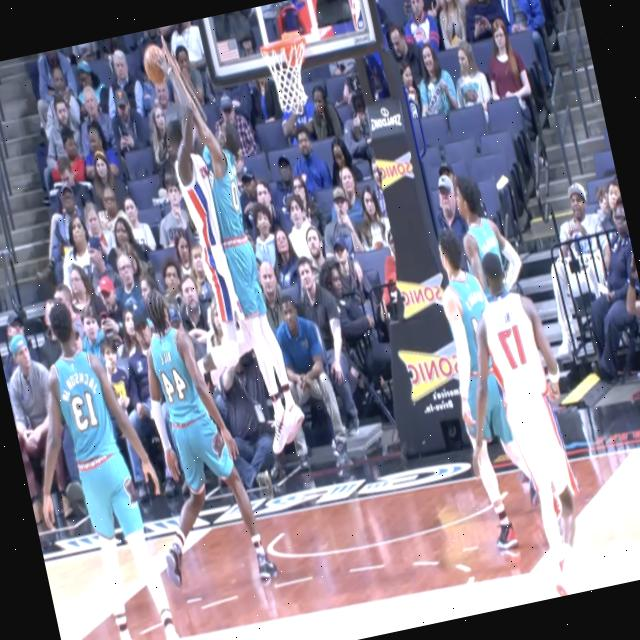foul: (132, 14, 312, 466)
no foul: (104, 259, 288, 636), (466, 220, 604, 575), (417, 212, 550, 562)
